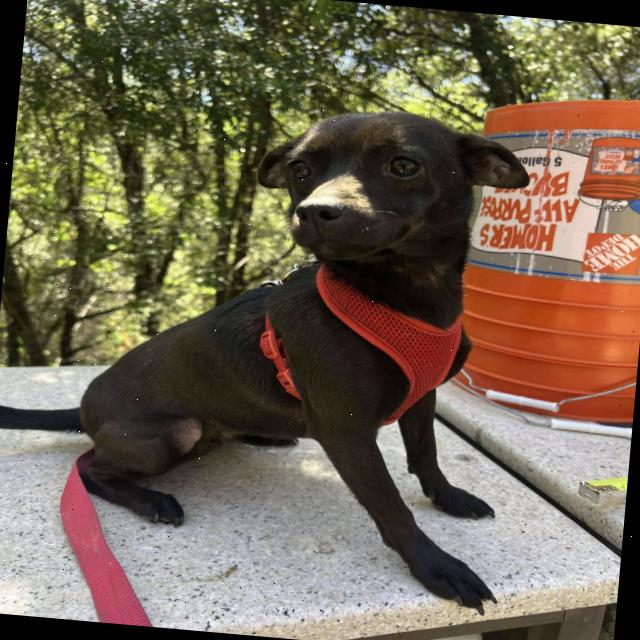chihuahua_dog: (228, 91, 542, 307)
